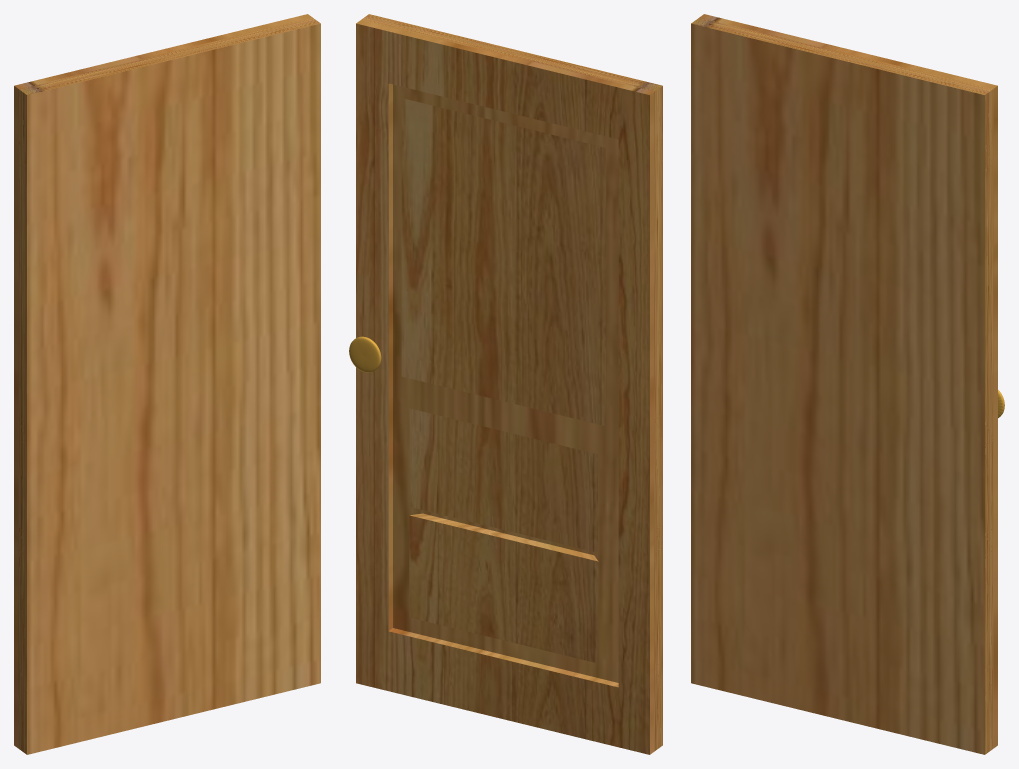
File: door.fbx
3 views of the same model, side by side, from view 1: azimuth 30°, elevation 25°; view 2: azimuth 150°, elevation 25°; view 3: azimuth 330°, elevation 25° (orthographic).
Parts seen in each view (by area): view 1: Cube; view 2: Cube, Cylinder; view 3: Cube.
Boxes of the visible parts, bbox=[...] form: Cube: bbox=[14, 14, 320, 754]; Cube: bbox=[356, 14, 662, 754]; Cylinder: bbox=[349, 336, 381, 372]; Cube: bbox=[691, 14, 997, 754].
Bounding box in the file's own units: 315 × 674 × 36.7.
